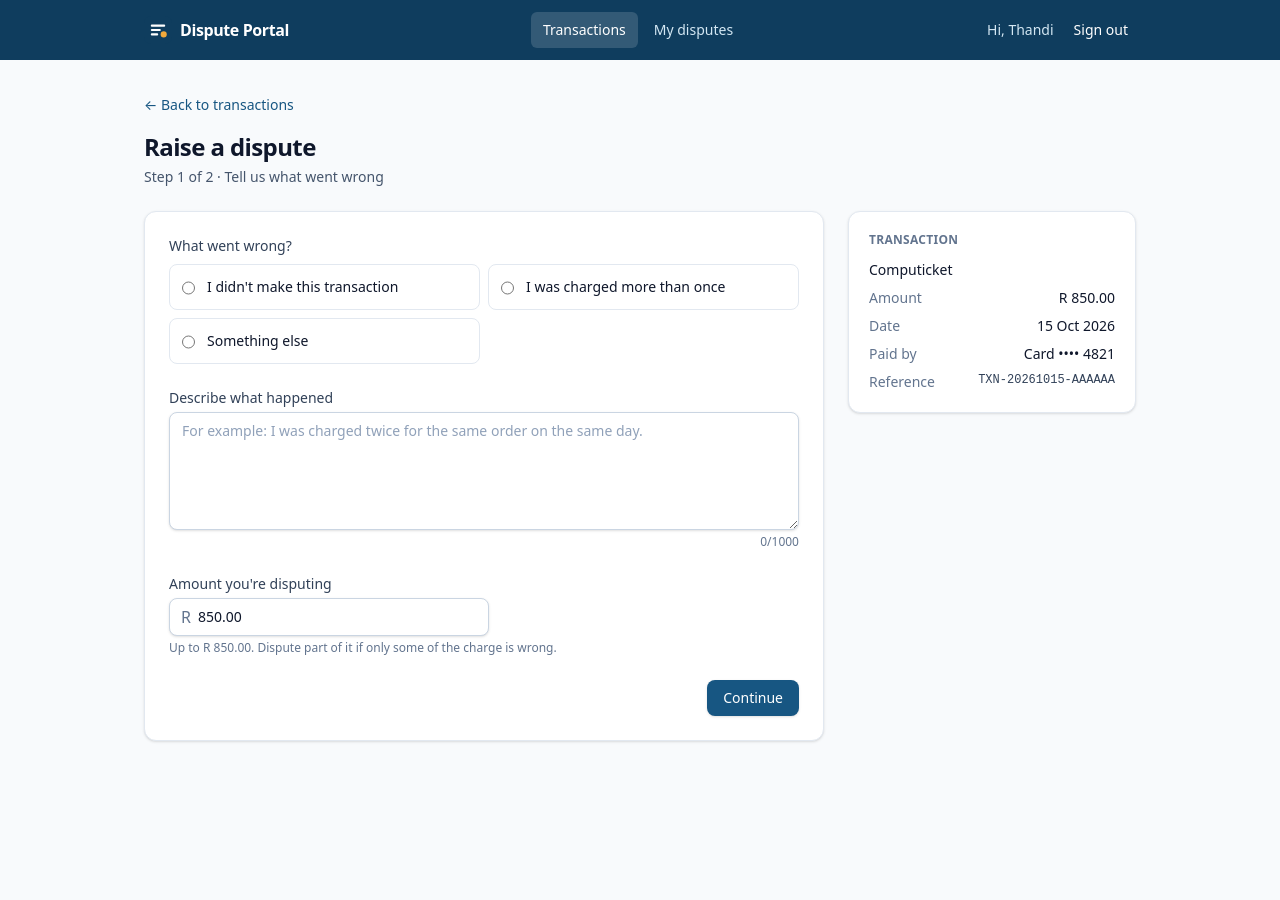
Test: RaiseDisputePage › flags invisible characters pasted into the description
The width and height of the screenshot is (1280, 900).
Click the radio button labelled "I was charged more than once" at (508, 288), box [501,279,514,297]
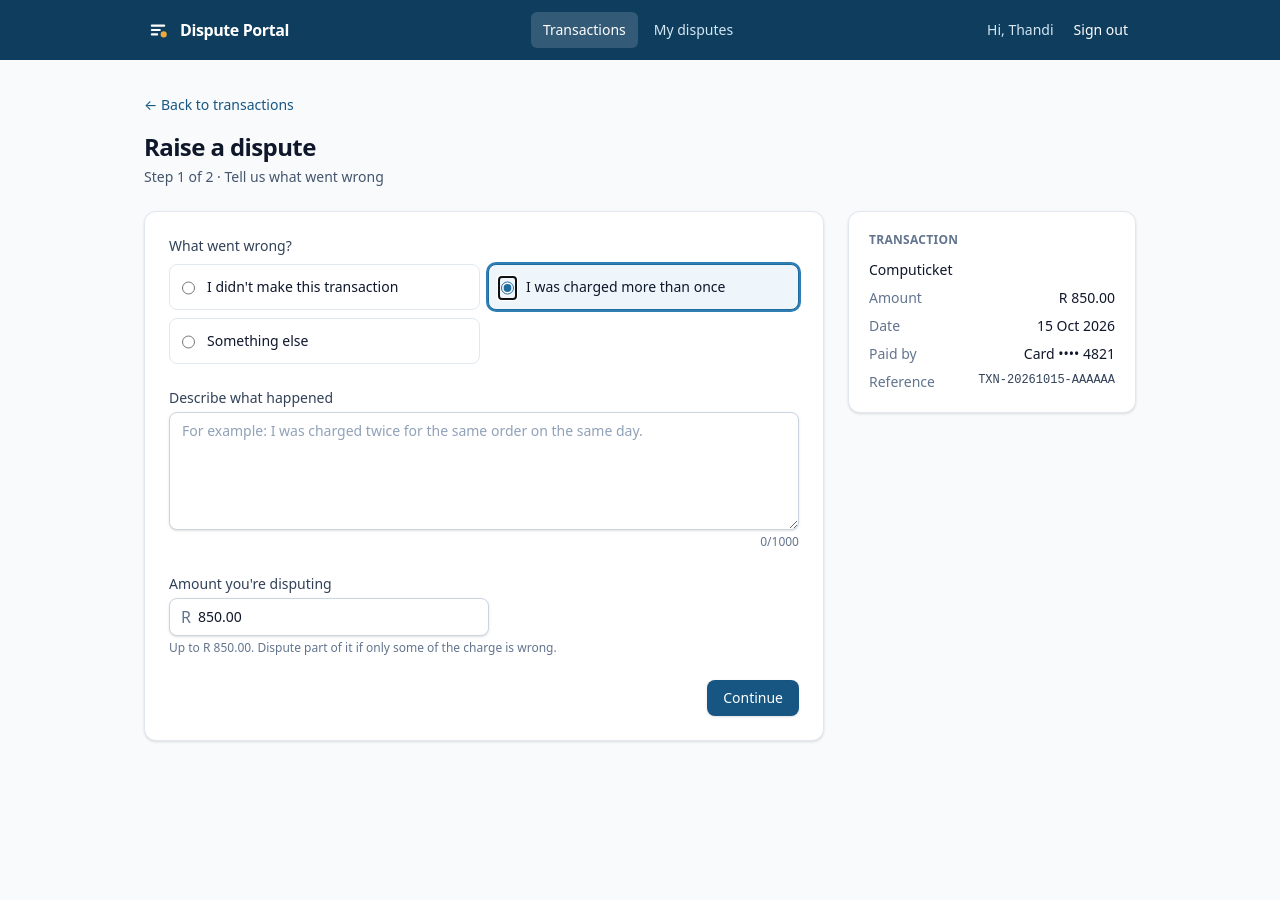
Click the text box labelled "Describe what happened" at (484, 471), box [169,412,799,530]
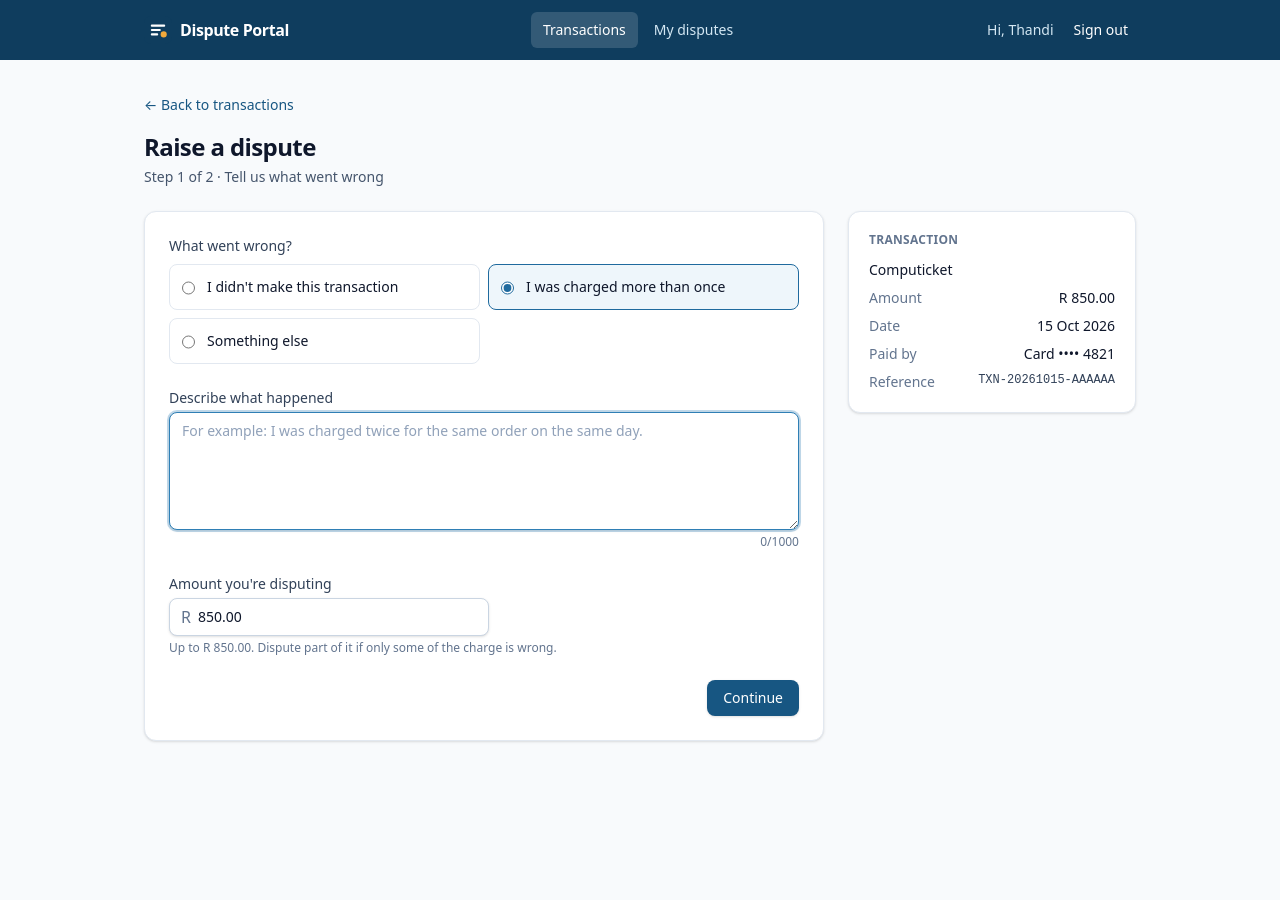
U+202E flips the text that follows, so what an agent reads is not what was typed.
Type keys "I was charged twice  for the same concert ticket."
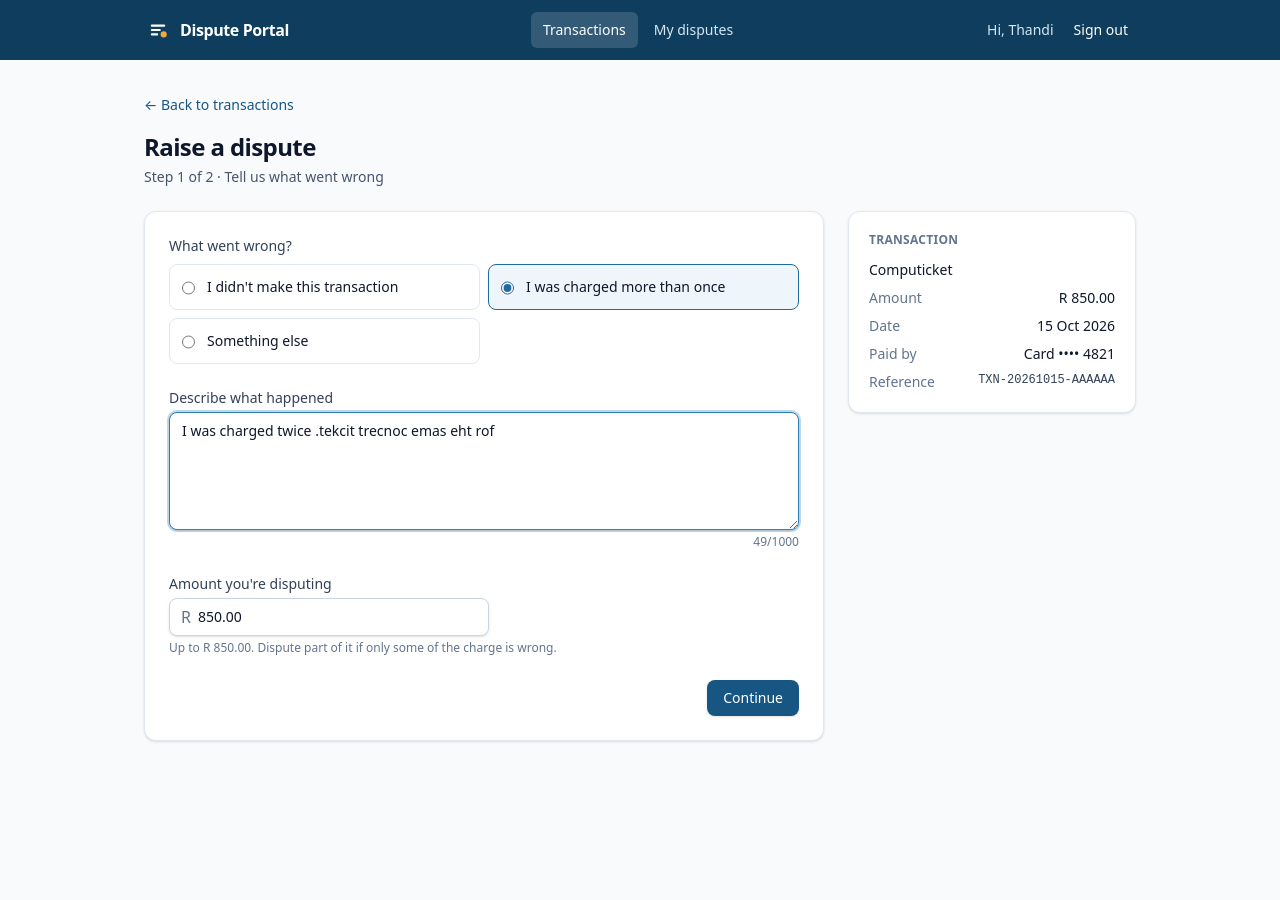
Click the button "Continue" at (753, 698), box [707,680,799,716]
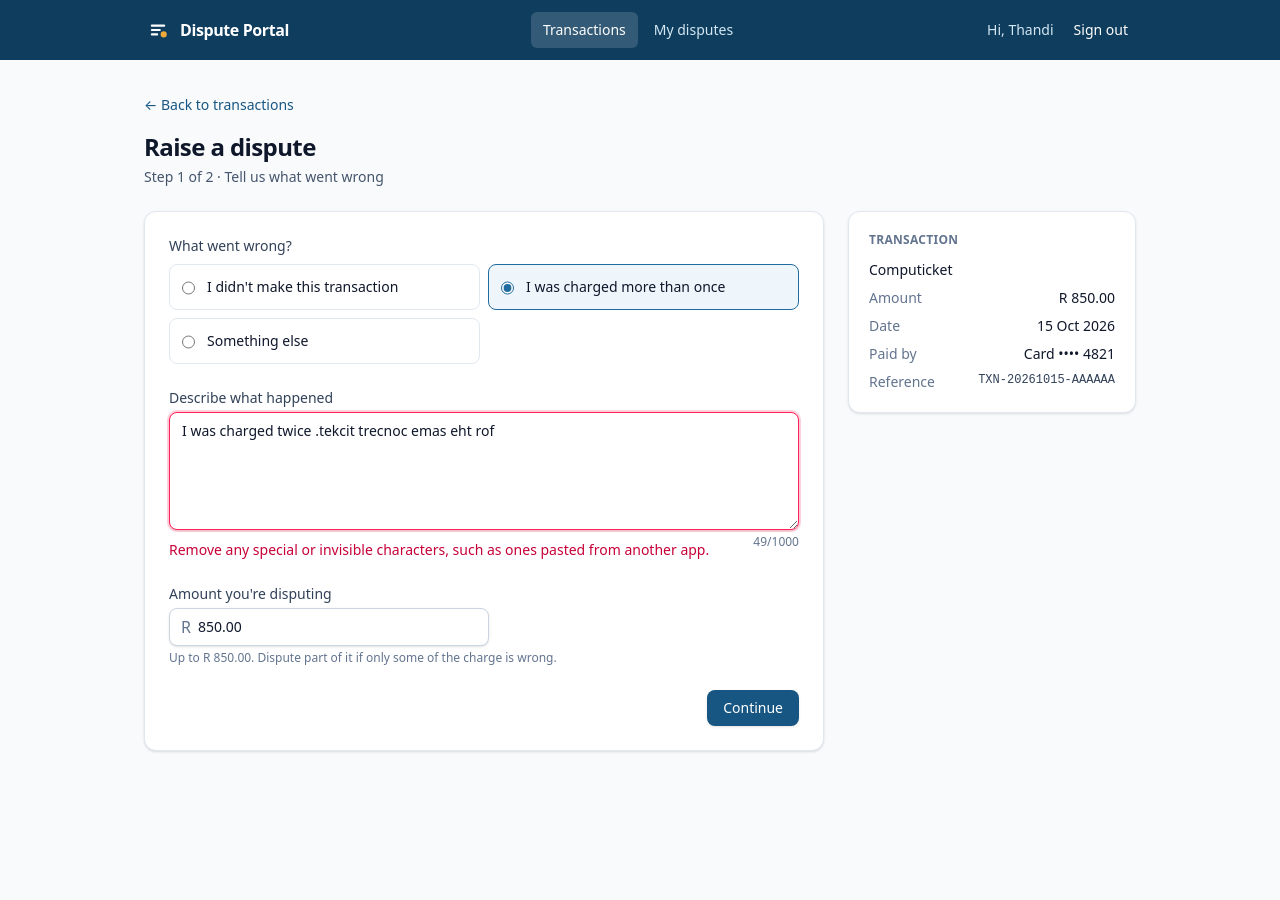
Expected: the button "Continue" is shown, [707,690,799,726]
Expected: the text "special or invisible characters" is shown, [169,540,709,559]
